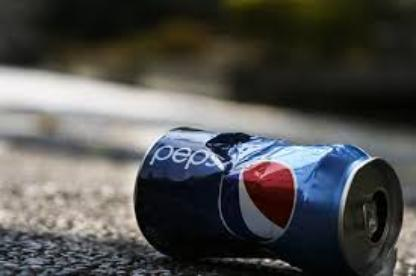Can: (134, 126, 406, 274)
